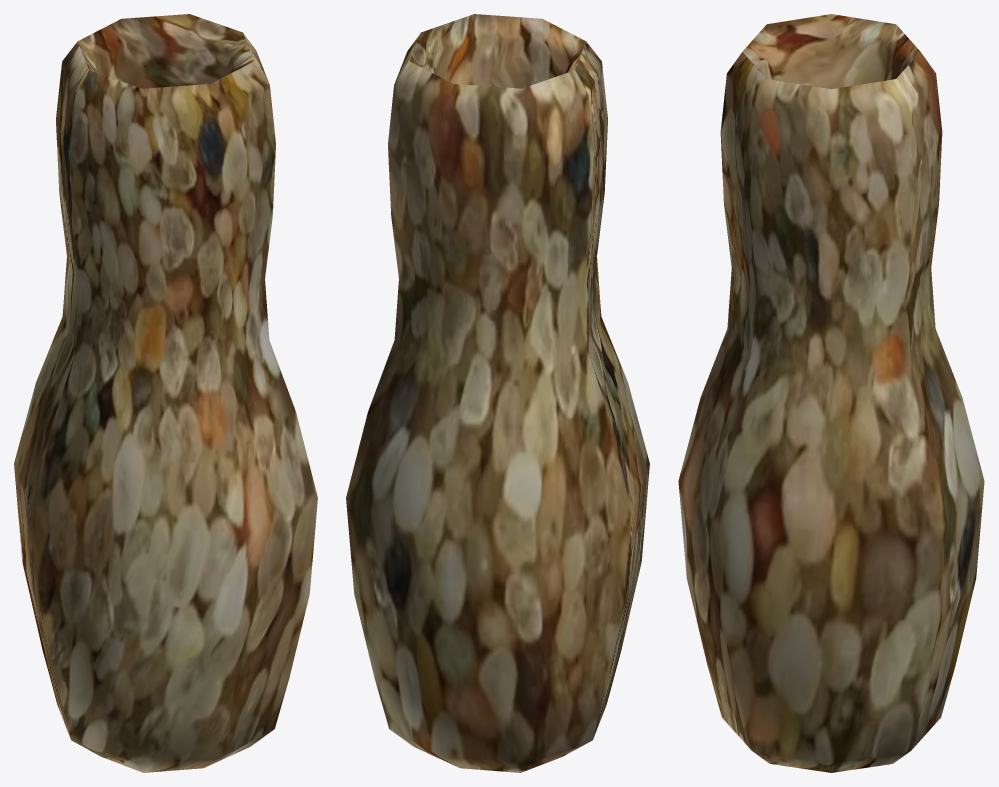
File: Vaze_01.glb
3 views of the same model, side by side, from view 1: azimuth 30°, elevation 25°; view 2: azimuth 150°, elevation 25°; view 3: azimuth 270°, elevation 25° (orthographic).
Visible parts, largest first — view 1: Cube; view 2: Cube; view 3: Cube.
Boxes of the visible parts, box(x1,y1,x2,y2) form: Cube: box(14, 14, 317, 772); Cube: box(346, 14, 649, 772); Cube: box(678, 14, 984, 772).
Size of the model in its own units: 0.7963 by 2 by 0.7963.
1 material, 1 textured.
